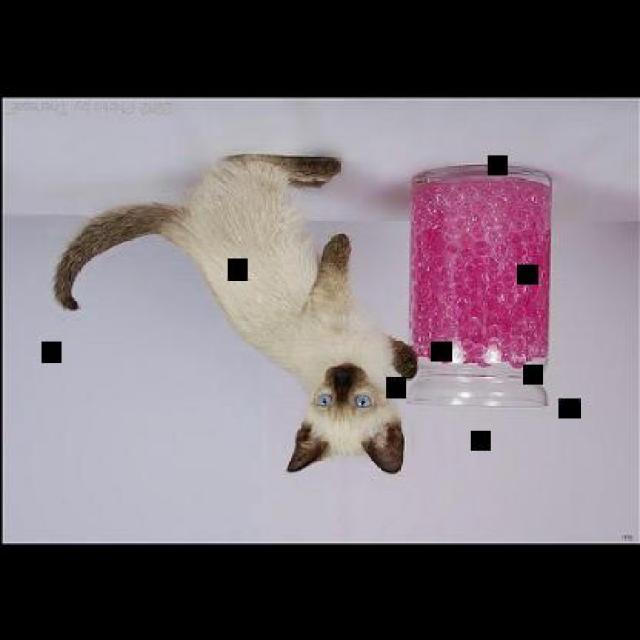unauthorized: (52, 152, 417, 474)
